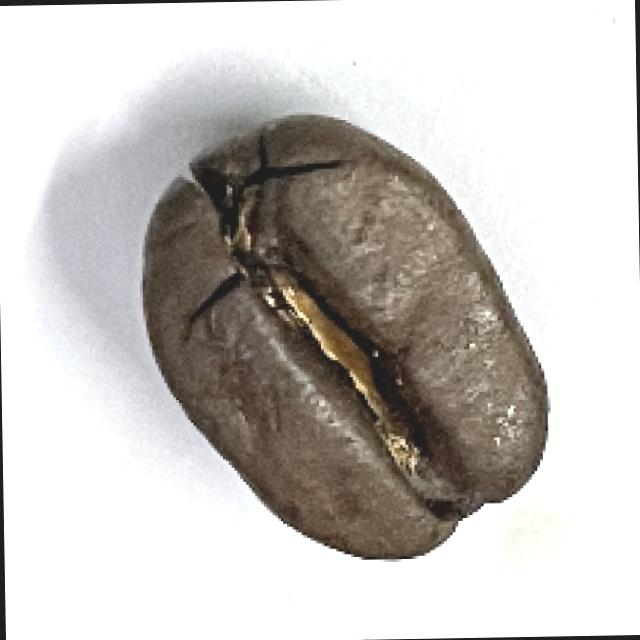bean: (135, 112, 552, 569)
